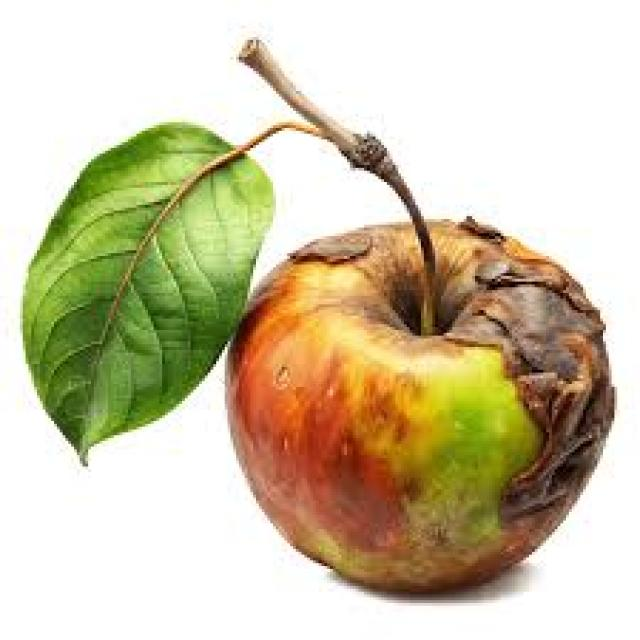Green Juicy Apple: (237, 217, 250, 218)
Rotten Apple: (221, 216, 615, 596)
